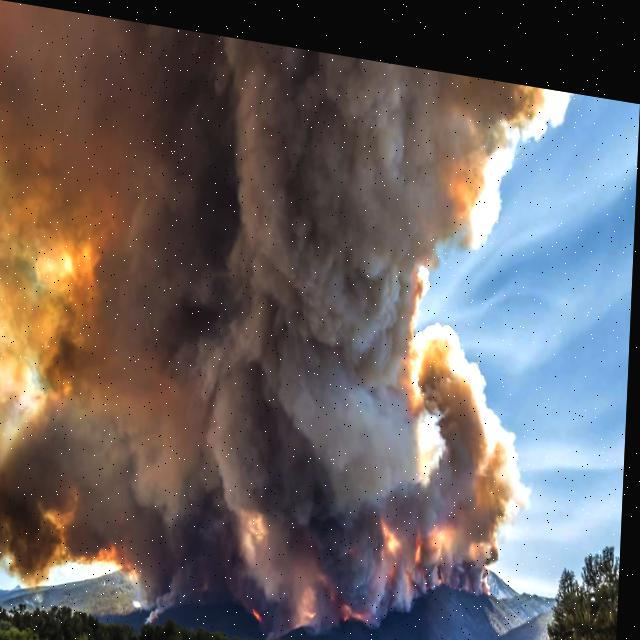Fire: (328, 492, 498, 624)
